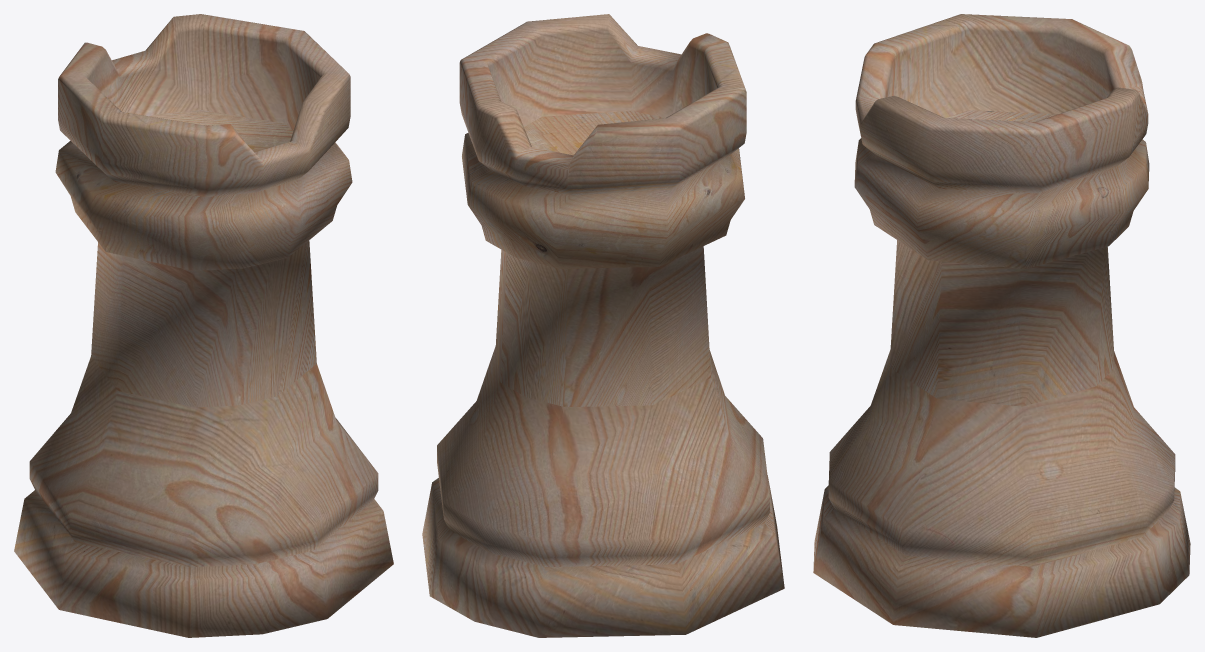
The model's file is WhiteRook.gltf.
The picture shows the model from 3 angles, left to right: view 1: azimuth 30°, elevation 25°; view 2: azimuth 150°, elevation 25°; view 3: azimuth 270°, elevation 25°; orthographic projection.
Visible parts, largest first — view 1: Object_16; view 2: Object_16; view 3: Object_16.
Boxes of the visible parts, x1,y1,x2,y2 form: Object_16: [14, 14, 393, 637]; Object_16: [422, 14, 784, 637]; Object_16: [813, 14, 1190, 637].
Bounding box in the file's own units: 0.0295 × 0.042 × 0.0295.
1 material, 1 textured.
